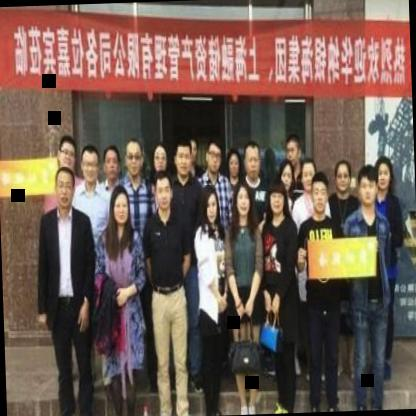head: (108, 181, 135, 234), (51, 164, 80, 212), (171, 129, 197, 182), (262, 176, 288, 224), (198, 184, 224, 232), (122, 134, 147, 182), (150, 169, 174, 218), (77, 140, 102, 187), (232, 176, 256, 222), (53, 133, 78, 177), (358, 163, 382, 208), (374, 153, 398, 197), (201, 136, 224, 180), (242, 136, 264, 181), (330, 157, 353, 200), (308, 174, 333, 212), (100, 141, 122, 182), (148, 138, 172, 174), (284, 130, 303, 168), (300, 157, 318, 193), (280, 158, 298, 194), (226, 147, 244, 182)
